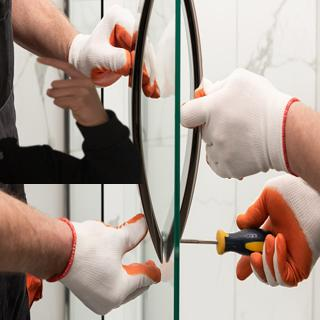WHY: (33, 52, 105, 126)
